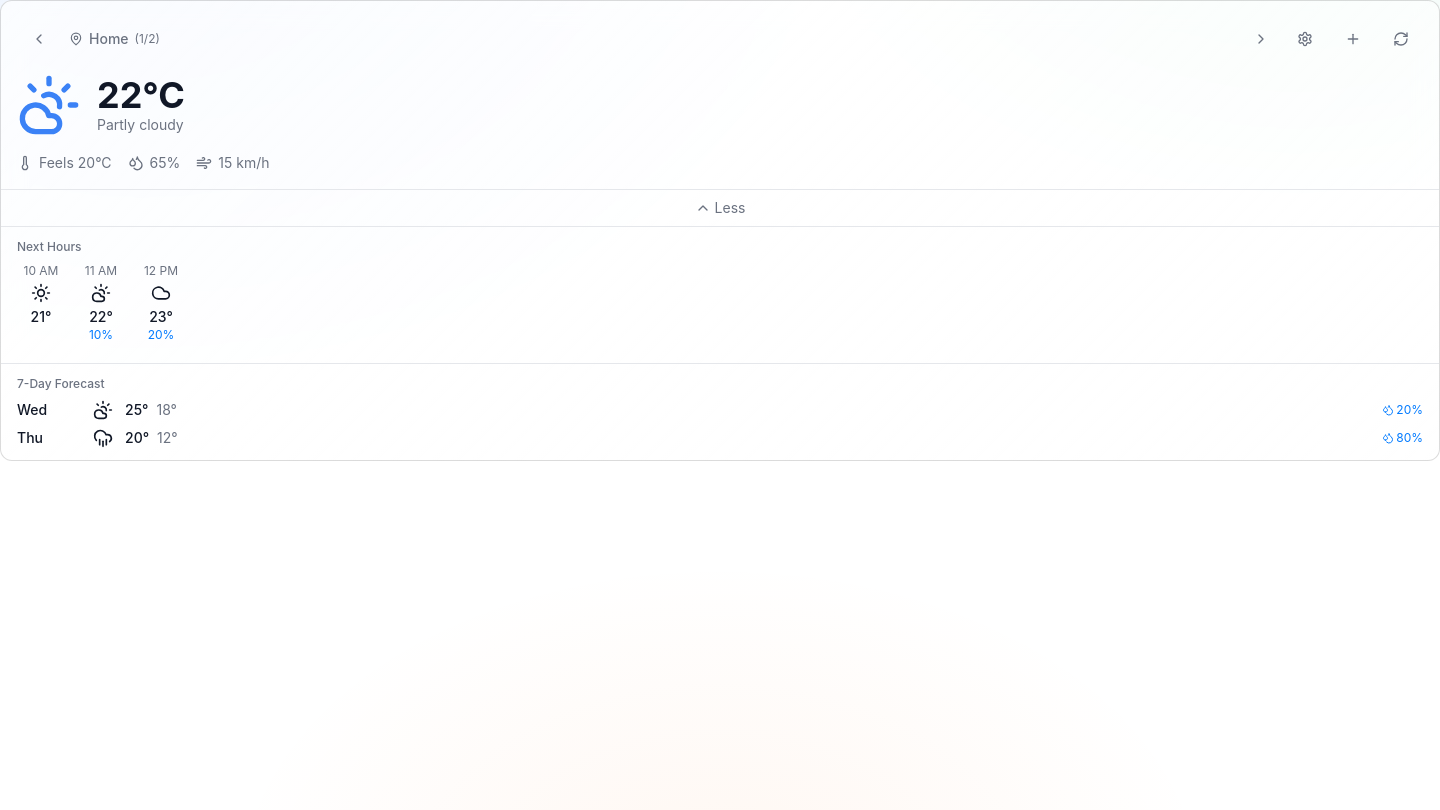
Test case: WeatherWidget › Manage Locations Modal › opens manage locations modal when settings button is clicked
Click the button titled "Manage locations" at (1305, 39), box [1283,17,1327,61]
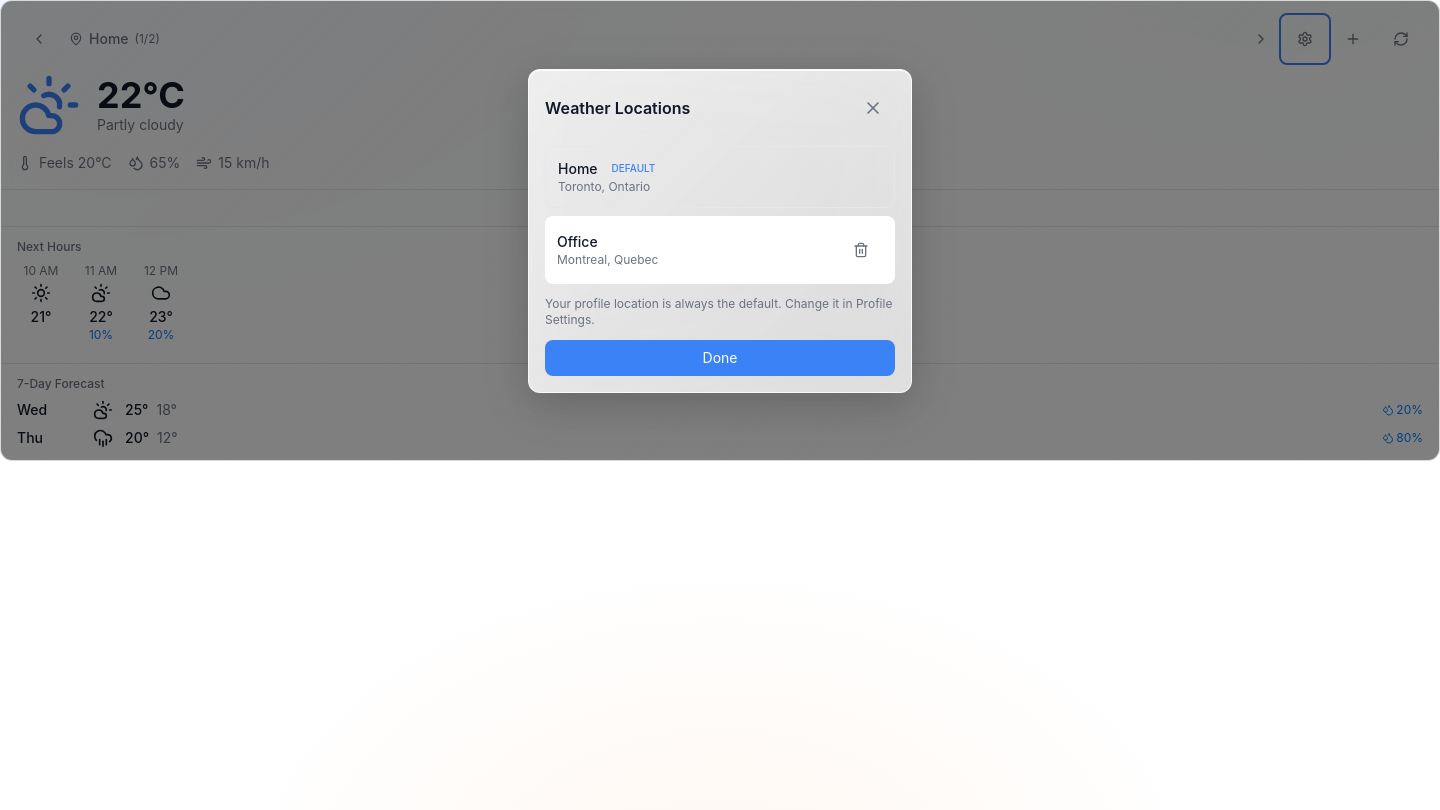
Check: the heading "Weather Locations" is shown, box [545,96,690,120]
Check: the text "Home" is shown 2 times, box [89,29,128,49]; [558,158,598,178]
Check: the text "Office" is shown, box [557,232,598,252]
